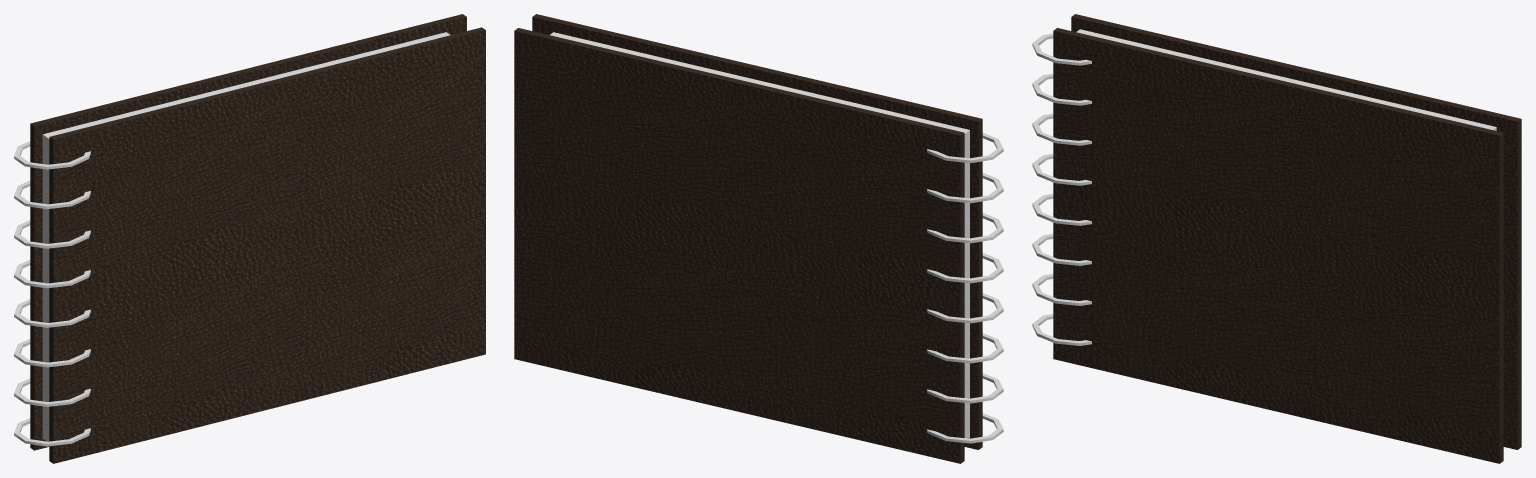
Rendered from Private photo album.FBX.
3 views of the same model, side by side, from view 1: azimuth 30°, elevation 25°; view 2: azimuth 150°, elevation 25°; view 3: azimuth 330°, elevation 25° (orthographic).
Parts seen in each view (by area): view 1: Private photo album; view 2: Private photo album; view 3: Private photo album.
Boxes of the visible parts, x1,y1,x2,y2 form: Private photo album: (14, 14, 485, 463); Private photo album: (514, 14, 1003, 463); Private photo album: (1032, 14, 1521, 463).
Size of the model in its own units: 43.13 by 28.96 by 5.7.
3 materials, 3 textured.
